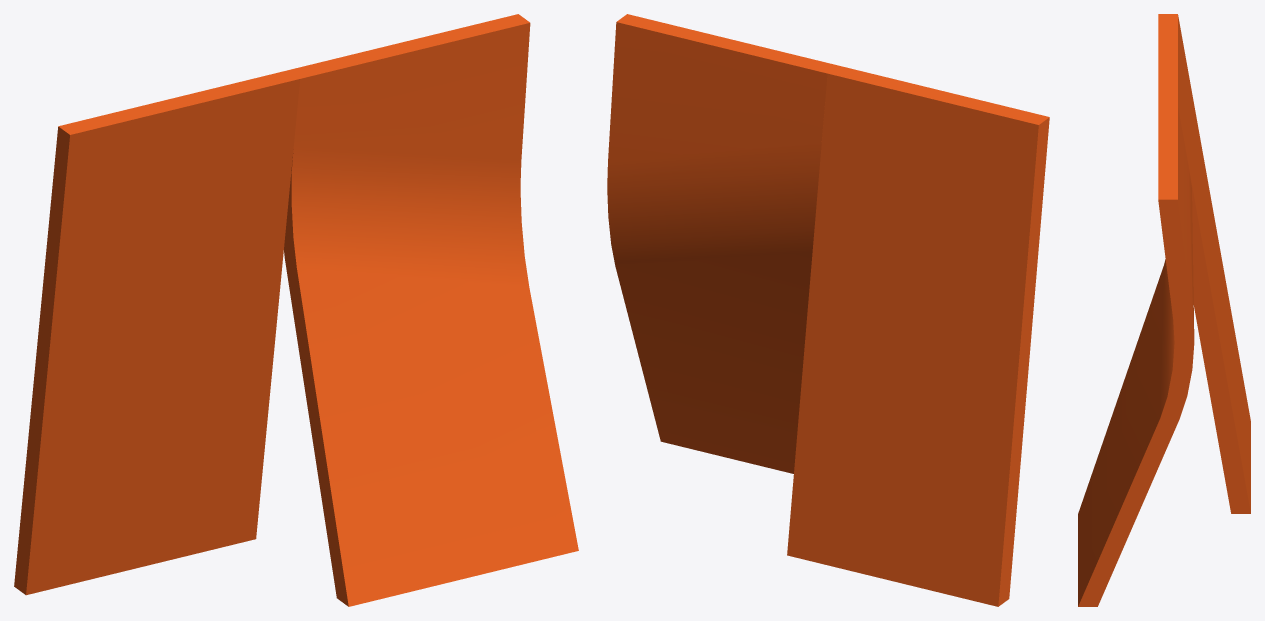
File: Art-06.fbx
3 views of the same model, side by side, from view 1: azimuth 30°, elevation 25°; view 2: azimuth 150°, elevation 25°; view 3: azimuth 270°, elevation 25° (orthographic). The views are drawn at different scales.
Visible parts, largest first — view 1: Art-06; view 2: Art-06; view 3: Art-06.
Part boxes in pixels (<box>): Art-06: <box>14,14,578,606</box>; Art-06: <box>607,14,1049,606</box>; Art-06: <box>1078,14,1250,606</box>.
Size of what is drawn, in the model's own units: 4.89 by 5 by 1.92.
